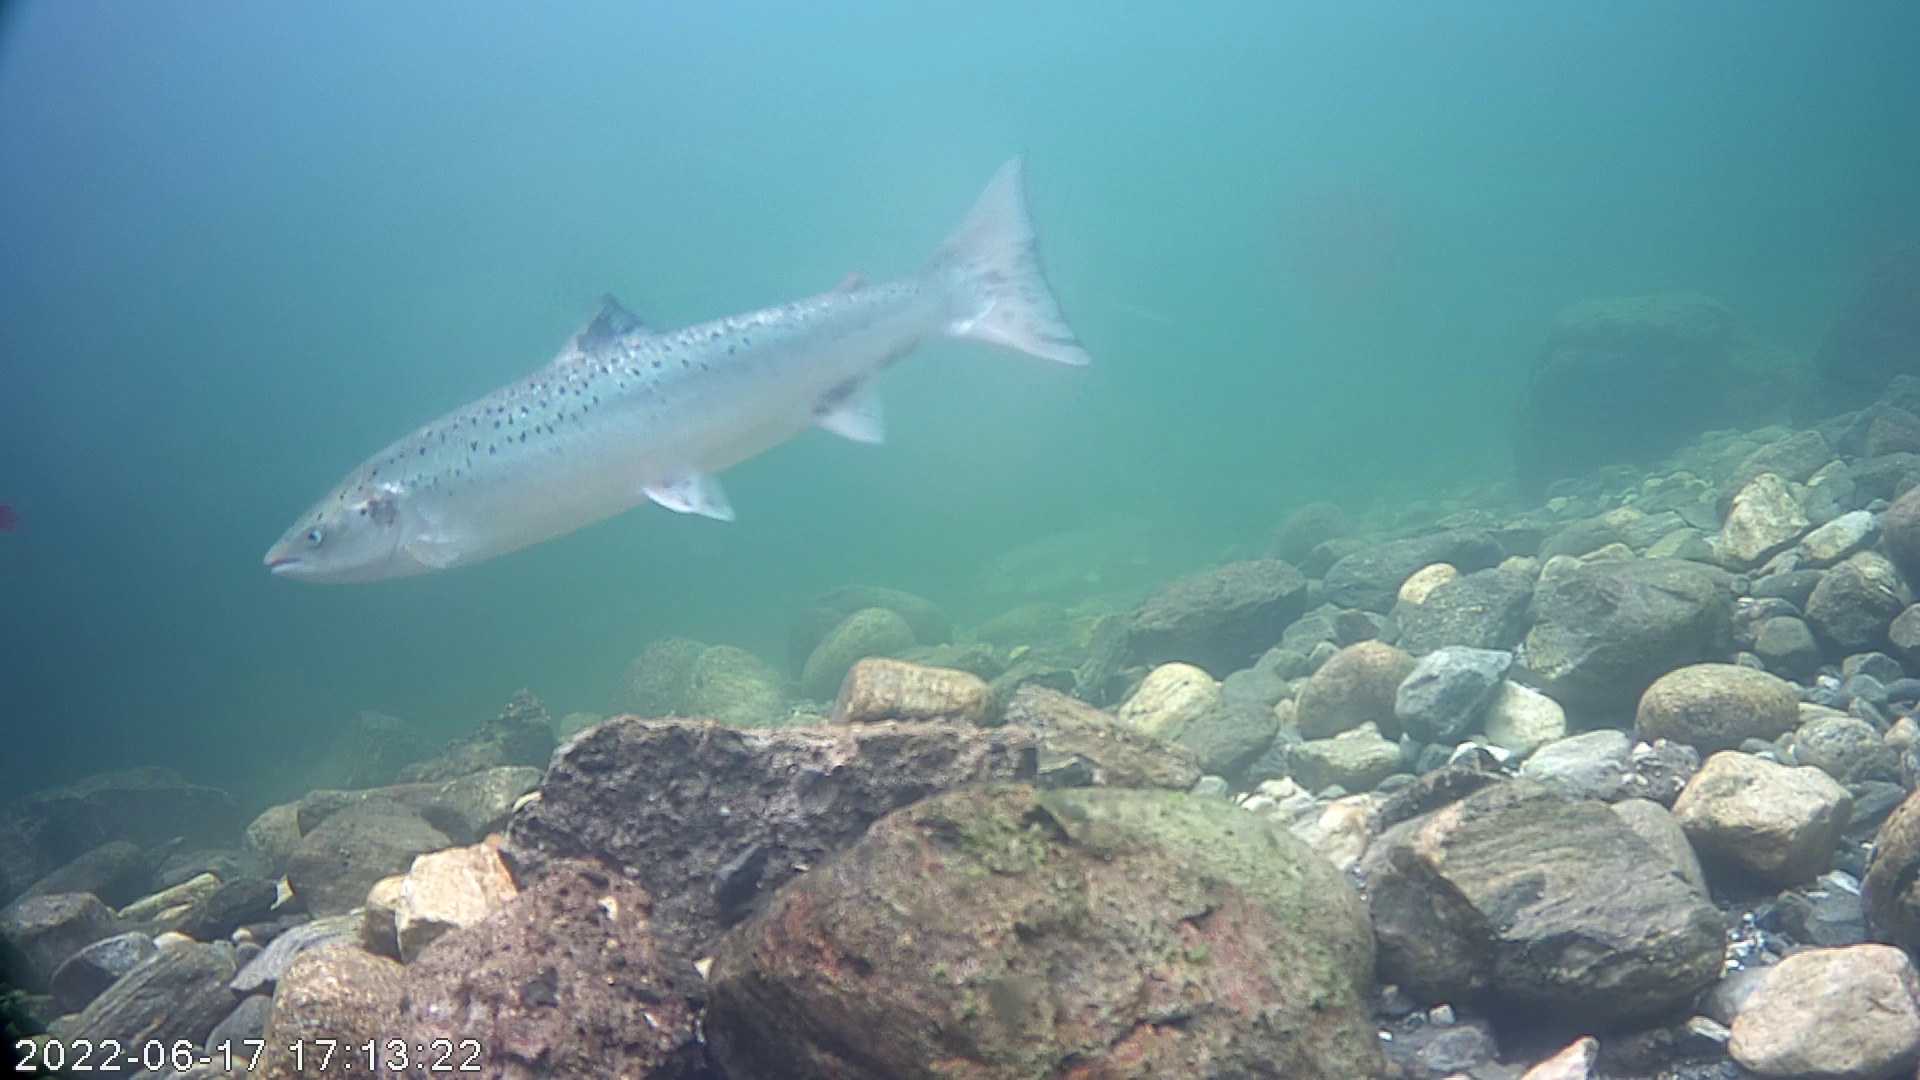salmon: (260, 142, 1095, 593)
